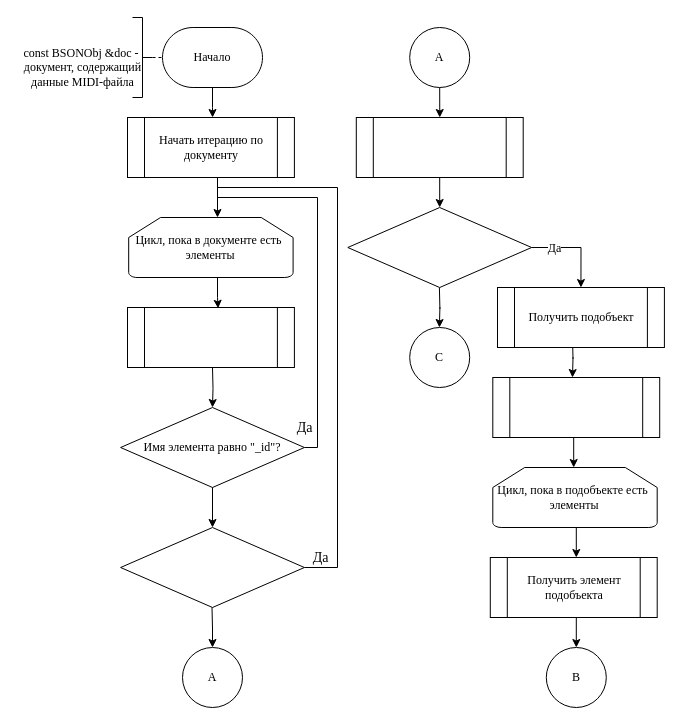
This 682x725 diagram has some shape labels left out. Here are the shapes that lost their labels. From the top down, the centre of each, then its label:
pixel 439 147: Получить тип элемента
pixel 439 247: Тип – это объект или массив?
pixel 210 337: Получить элемент документа
pixel 576 407: Начать итерацию по подобъекту
pixel 212 567: Имя элемента равно "Name"?
